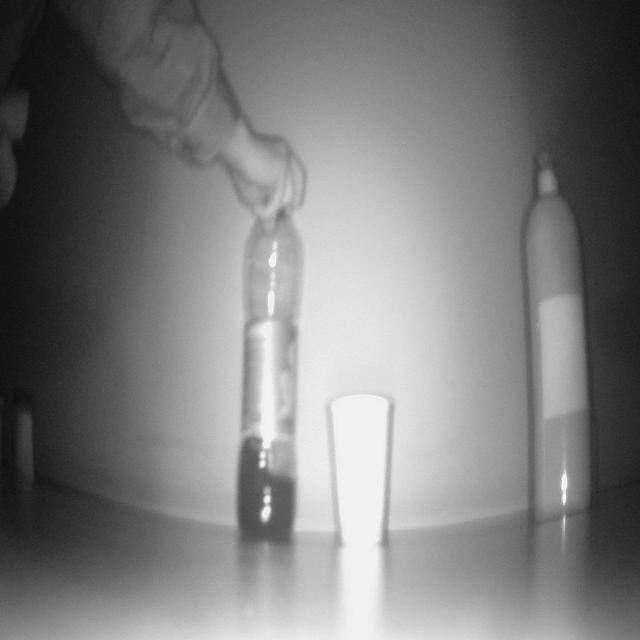targets: (520, 147, 596, 523), (247, 214, 299, 532), (332, 393, 392, 544), (13, 406, 37, 473)
